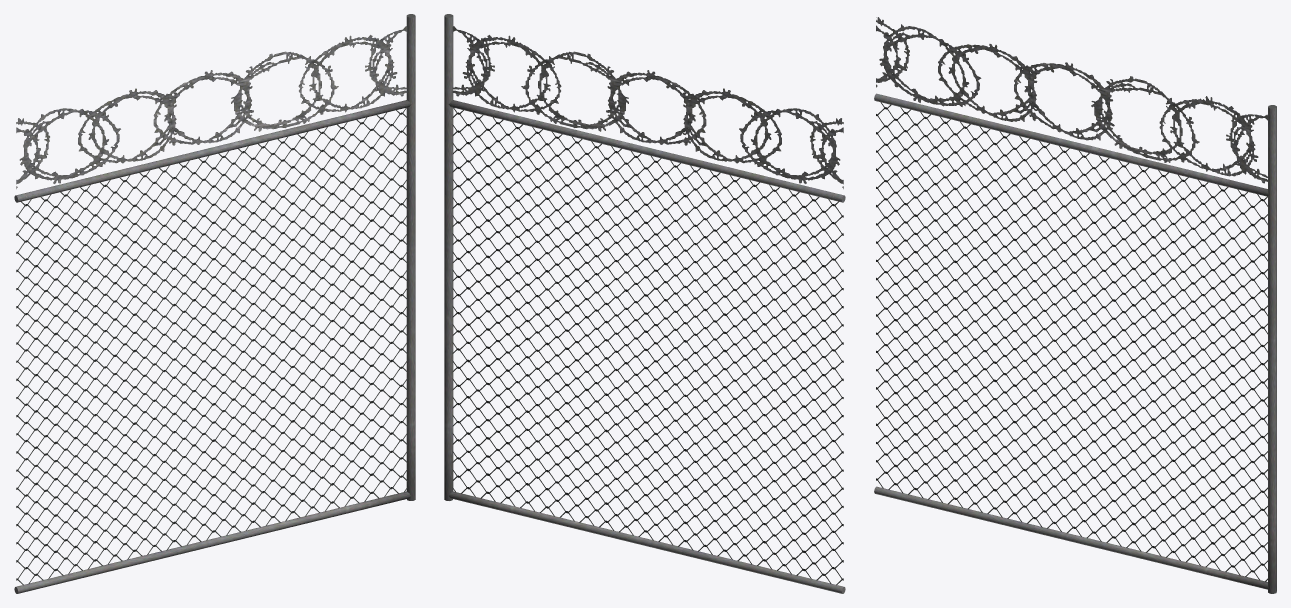
Rendered from fence_site_chainlink_bwr-A.fbx.
3 renders of one model, left to right at view 1: azimuth 30°, elevation 25°; view 2: azimuth 150°, elevation 25°; view 3: azimuth 330°, elevation 25°, orthographic.
Visible parts, largest first — view 1: fence_site_chainlink_bwr-A; view 2: fence_site_chainlink_bwr-A; view 3: fence_site_chainlink_bwr-A.
Part boxes in pixels (<box>): fence_site_chainlink_bwr-A: <box>14,14,415,593</box>; fence_site_chainlink_bwr-A: <box>444,14,845,593</box>; fence_site_chainlink_bwr-A: <box>874,17,1276,593</box>.
Size of the model in its own units: 2.02 by 2.35 by 0.0404.
